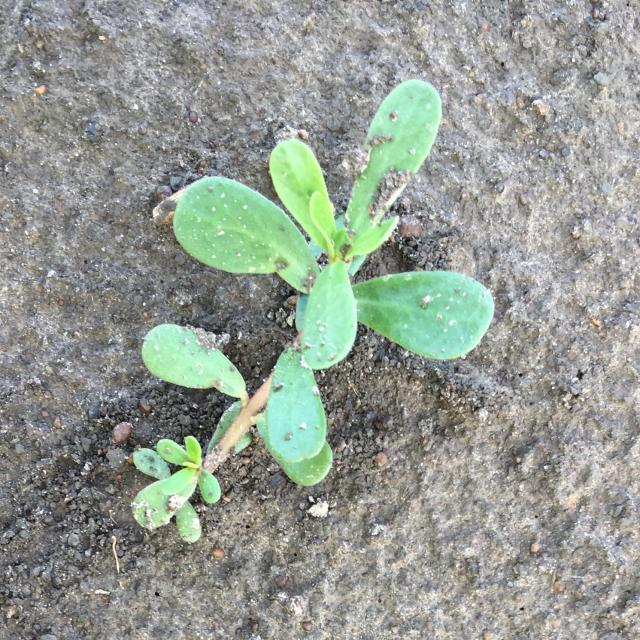Purslane: (131, 80, 494, 542)
